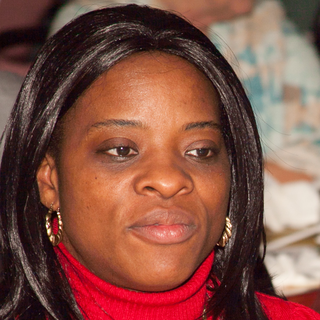eye: (96, 136, 142, 163), (182, 139, 220, 164)
